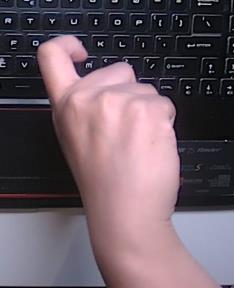anticlockwise: (32, 29, 182, 214)
